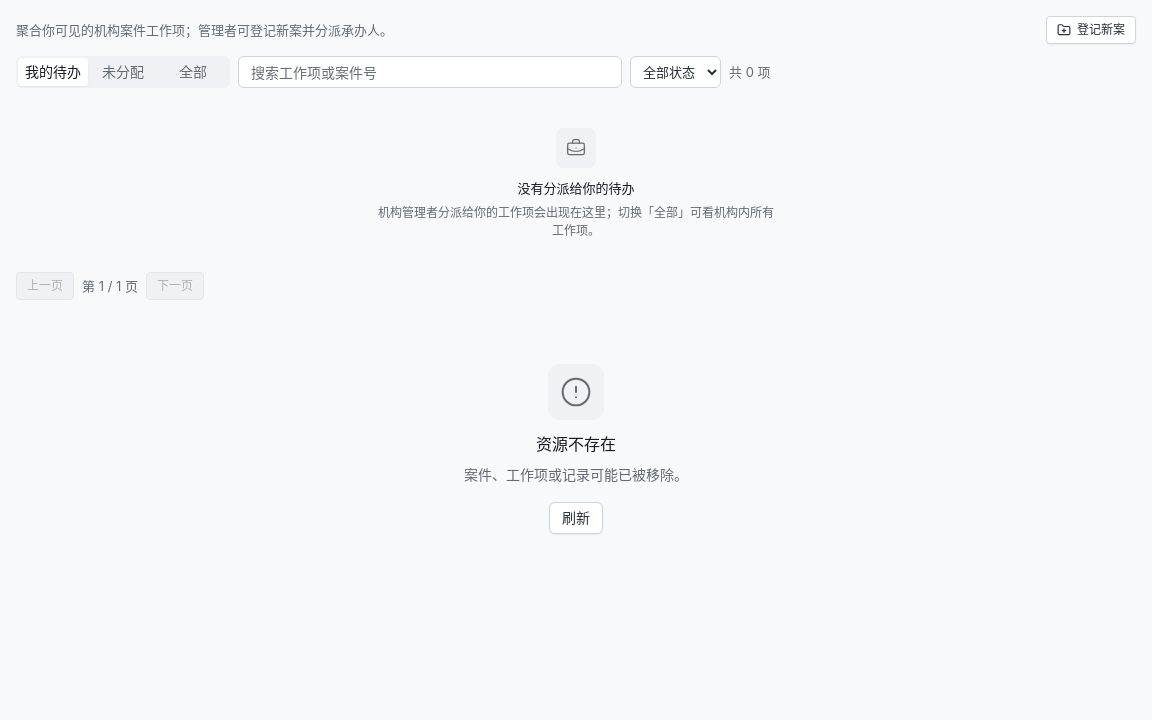
Scenario: Z11/Z12：机构工作台登记新案 › 无机构成员身份 → 空态，不渲染表单
Click the button with test id "intake-open": (1091, 30) [1046,16,1136,44]
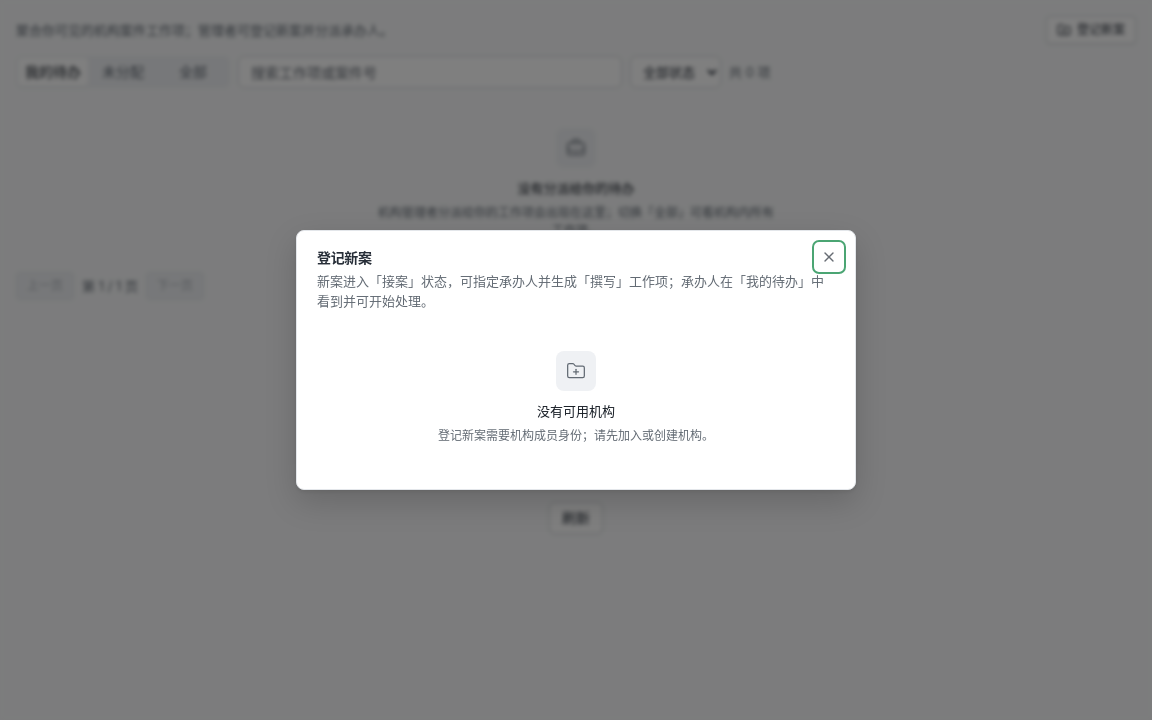
Check: the message "没有可用机构 登记新案需要机构成员身份；请先加入或创建机构。" is shown, box [438,351,714,443]
